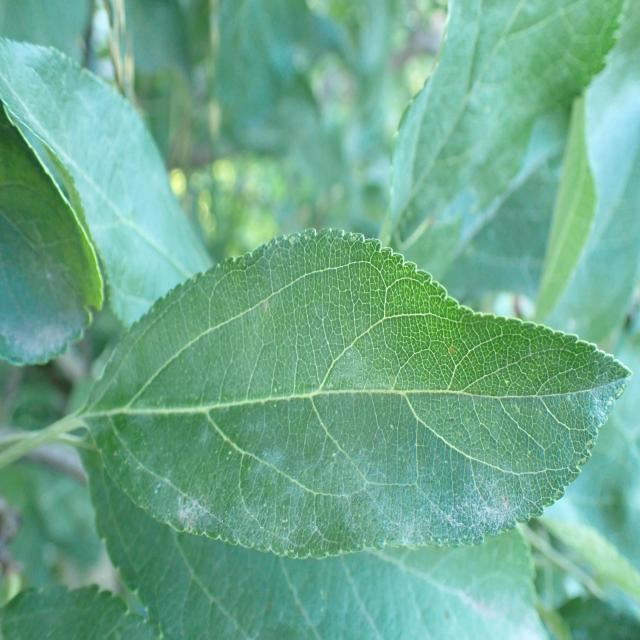Powdery_mildew: (92, 236, 598, 557)
